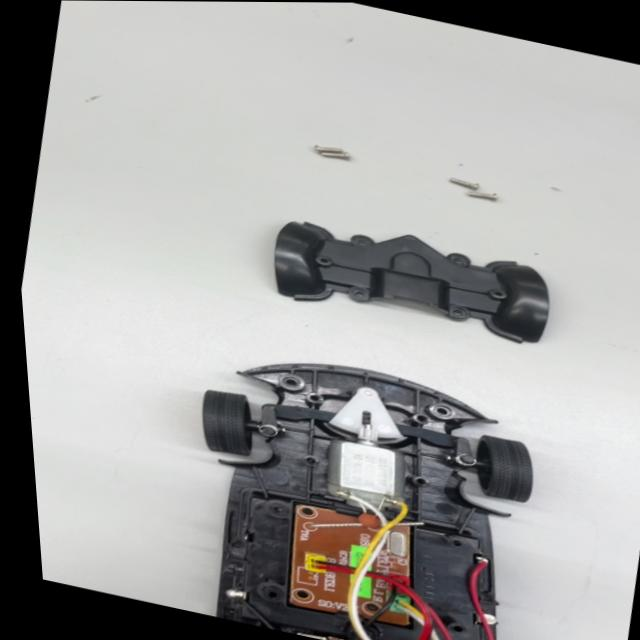Chassis: (174, 343, 541, 640)
motor: (300, 413, 435, 517)
motor_cover: (253, 205, 570, 360)
screw: (295, 132, 360, 174), (456, 181, 505, 212), (440, 167, 487, 194)
wheel: (462, 424, 561, 512), (170, 379, 270, 463)
